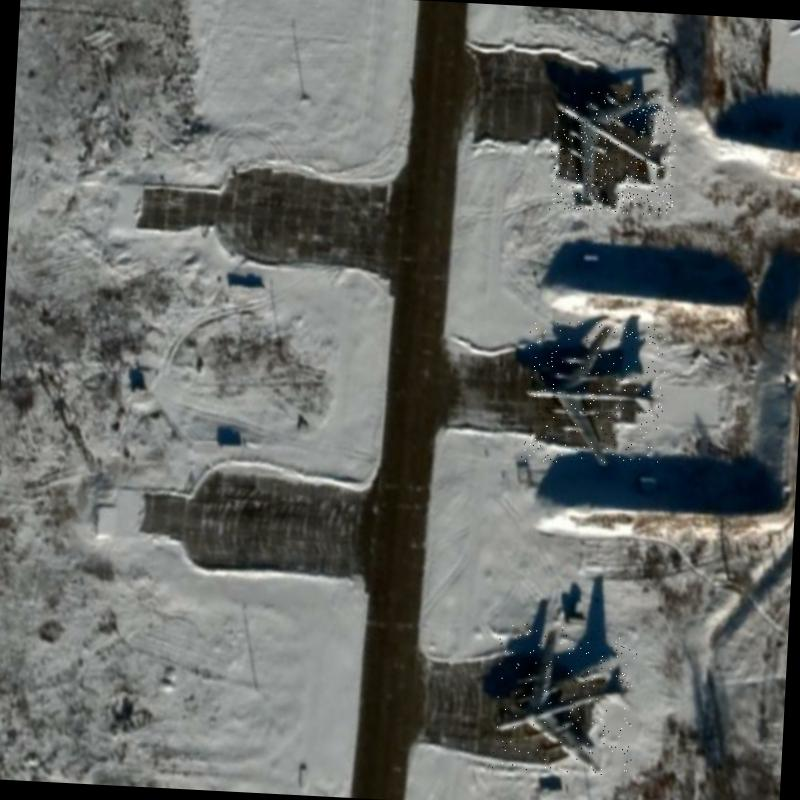A17: (492, 622, 639, 776), (520, 318, 667, 470), (548, 89, 678, 216)
